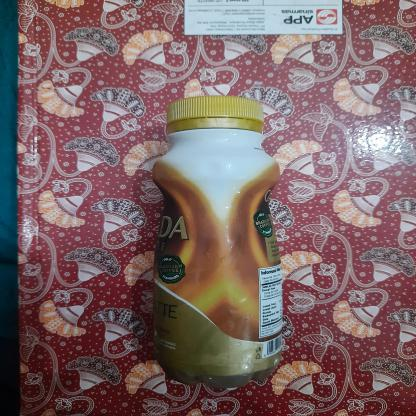bottle: (148, 90, 292, 389)
